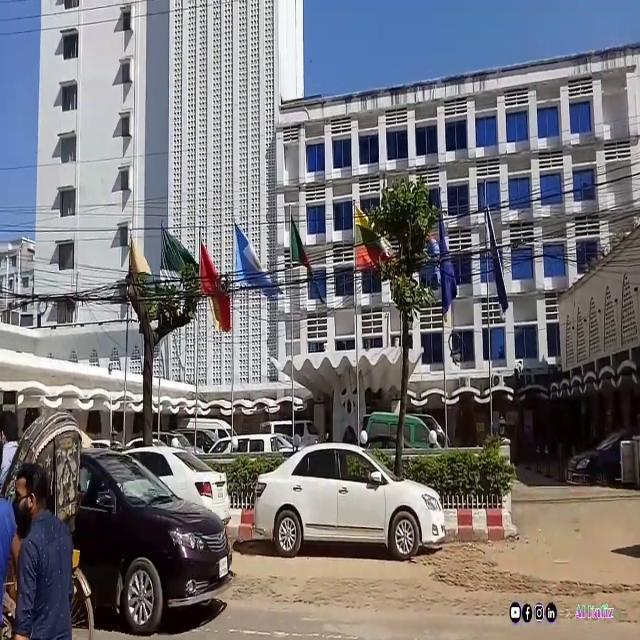maroon: (0, 417, 236, 636)
white: (248, 442, 452, 566)
